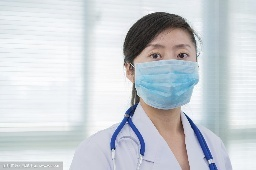correctlyWear: (123, 38, 199, 109)
